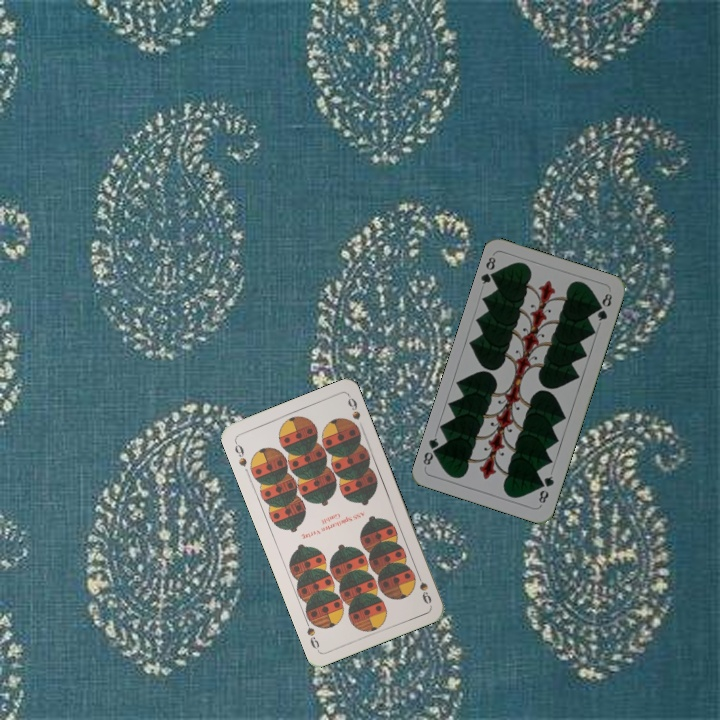G8: (477, 253, 501, 287), (535, 472, 557, 506)
S9: (413, 568, 434, 607), (230, 437, 250, 469)
